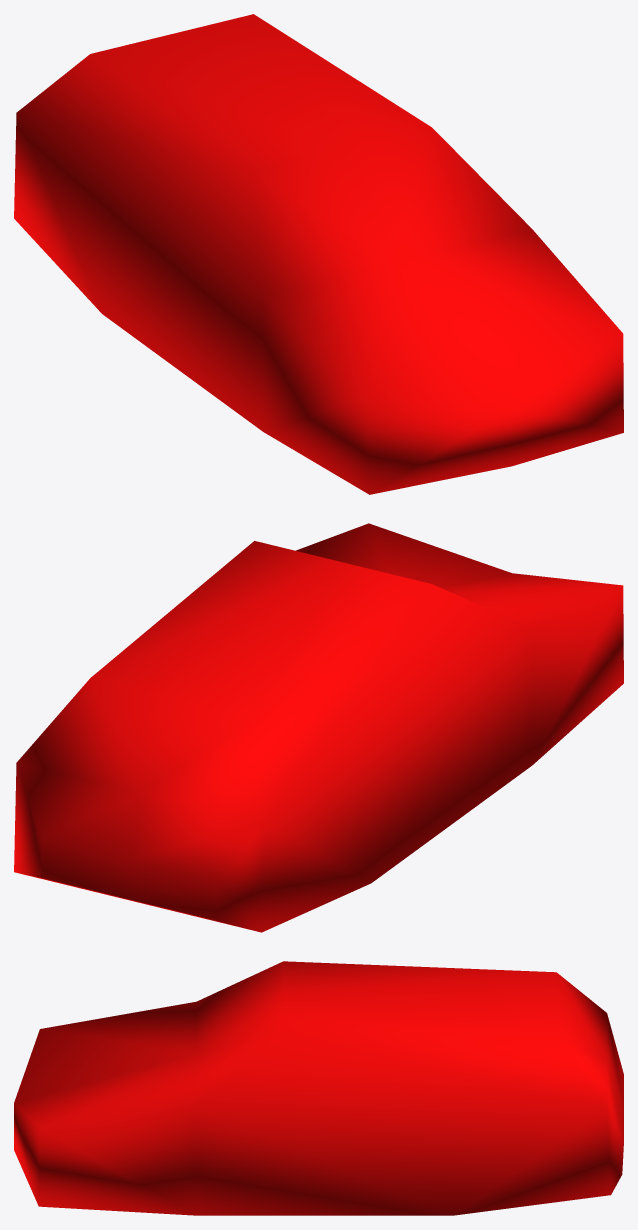
The model's file is car_0013_collider.fbx.
3 renders of one model, top to bottom at view 1: azimuth 30°, elevation 25°; view 2: azimuth 150°, elevation 25°; view 3: azimuth 270°, elevation 25°, orthographic. The views are drawn at different scales.
Visible parts, largest first — view 1: Mesh; view 2: Mesh; view 3: Mesh.
Boxes of the visible parts, x1=… form: Mesh: x1=14, y1=14, x2=623, y2=494; Mesh: x1=14, y1=523, x2=623, y2=932; Mesh: x1=14, y1=961, x2=623, y2=1215.
Size of the model in its own units: 175 by 130 by 431.
